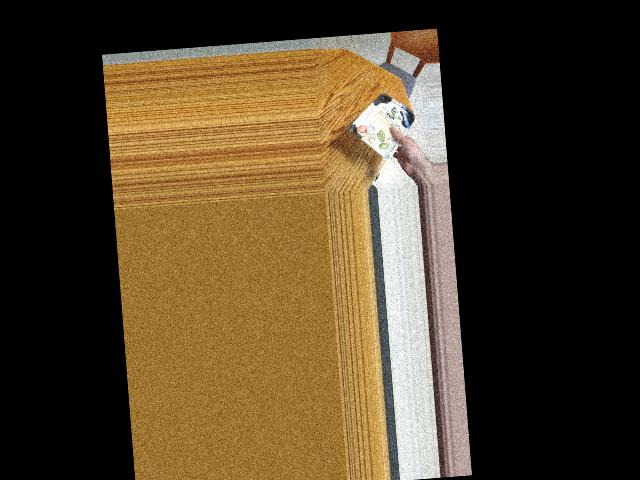cheese: (353, 100, 412, 142)
